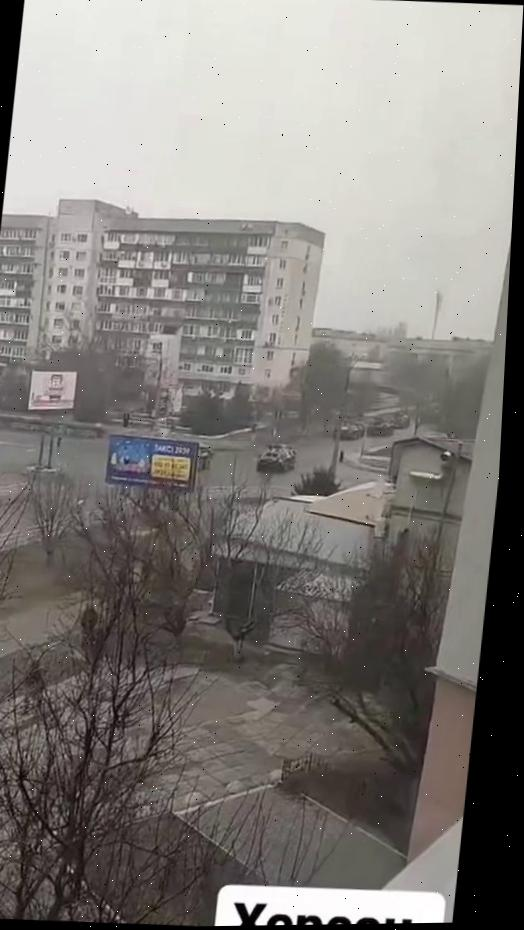tank: (256, 442, 297, 475), (365, 413, 394, 437), (332, 419, 361, 442), (387, 410, 413, 433)
